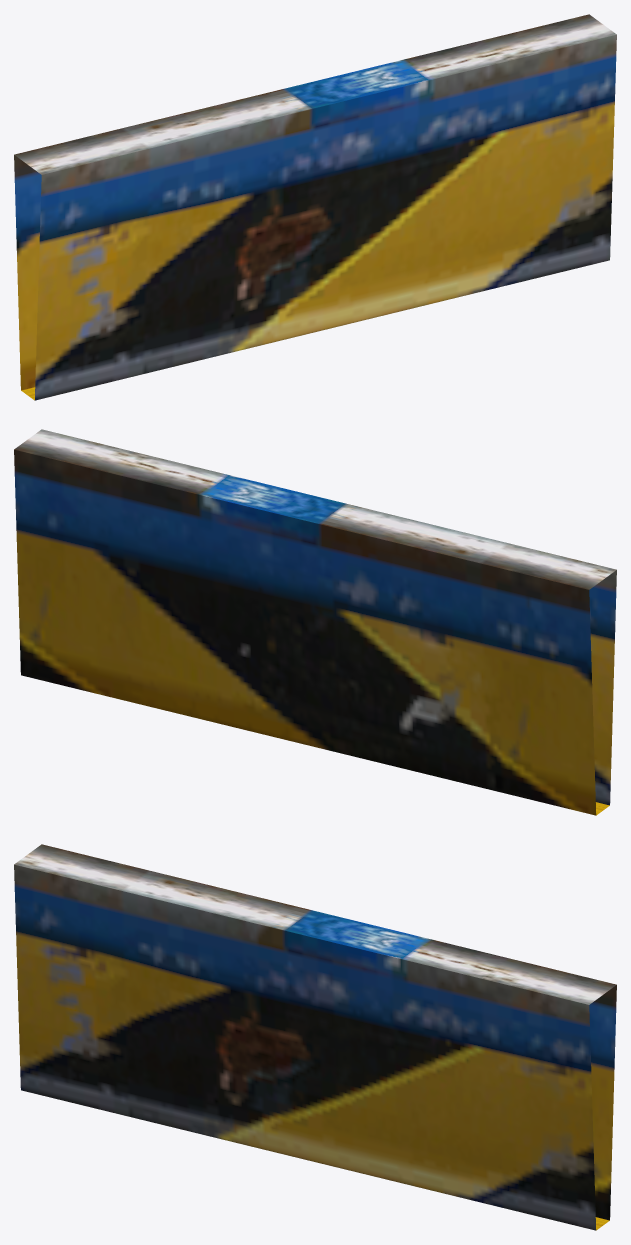
The model's file is Piece FBX.fbx.
3 views of the same model, one above another, from view 1: azimuth 30°, elevation 25°; view 2: azimuth 150°, elevation 25°; view 3: azimuth 330°, elevation 25° (orthographic).
Visible parts, largest first — view 1: railcanyon7.001; view 2: railcanyon7.001; view 3: railcanyon7.001.
Part boxes in pixels (box(x1,y1,x2,y2)): railcanyon7.001: box(14, 14, 616, 400); railcanyon7.001: box(14, 429, 616, 815); railcanyon7.001: box(14, 844, 616, 1230).
Size of the model in its own units: 600 by 230 by 50.11.
